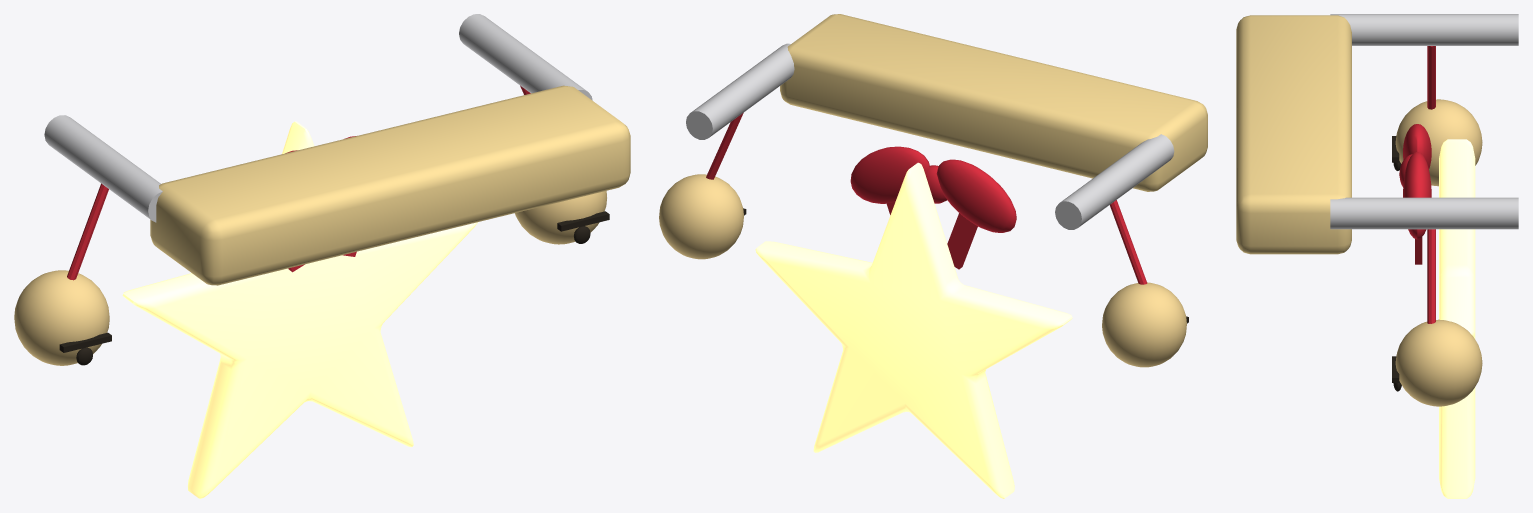
3 views of the same model, side by side, from view 1: azimuth 30°, elevation 25°; view 2: azimuth 150°, elevation 25°; view 3: azimuth 270°, elevation 25° (orthographic). The views are drawn at different scales.
Visible parts, largest first — view 1: finale_default; view 2: finale_default; view 3: finale_default.
Boxes of the visible parts, left/top/right/bottom form: finale_default: left=14, top=14, right=630, bottom=498; finale_default: left=659, top=14, right=1207, bottom=498; finale_default: left=1236, top=14, right=1518, bottom=498.
Bounding box in the file's own units: 0.84 × 0.5283 × 0.39.
